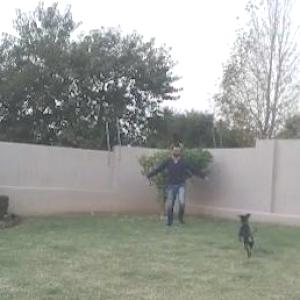land: (144, 133, 221, 236)
